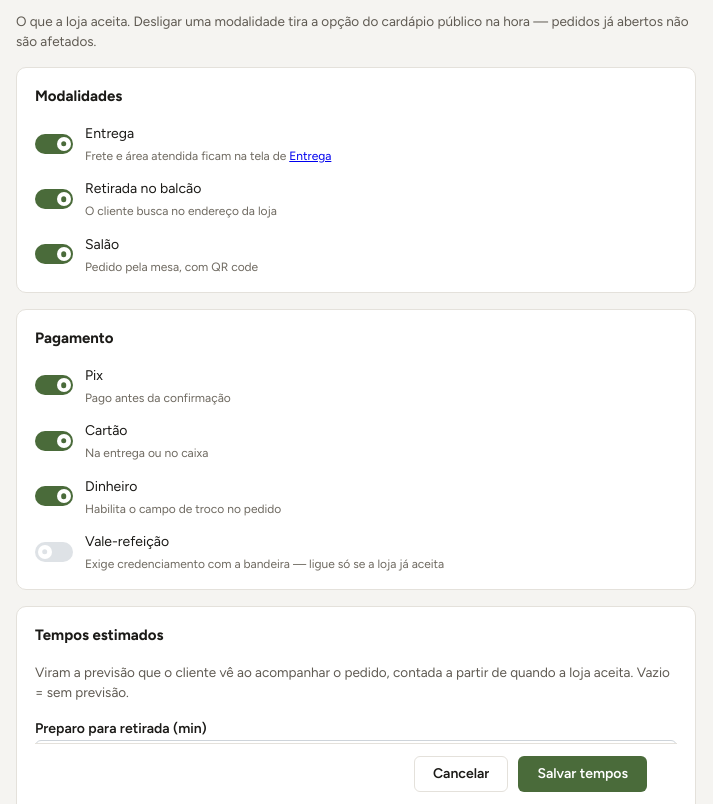
it: ModalitiesPage › o erro fica embaixo do interruptor que falhou, mesmo com dois cliques seguidos
Click the switch labelled "Entrega" at (54, 144), box [35,125,331,163]
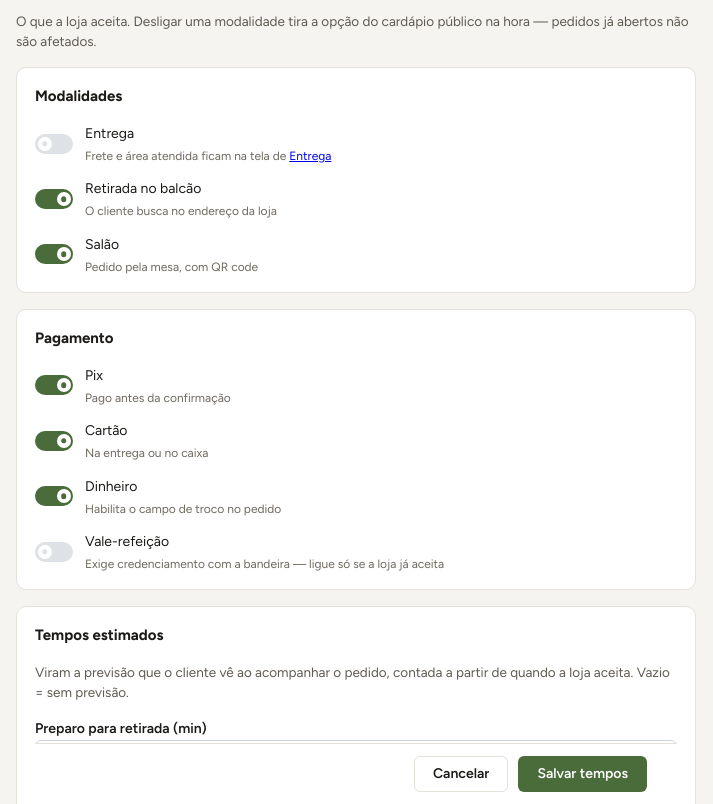
Click the switch labelled "Retirada no balcão" at (156, 199), box [35,180,277,218]
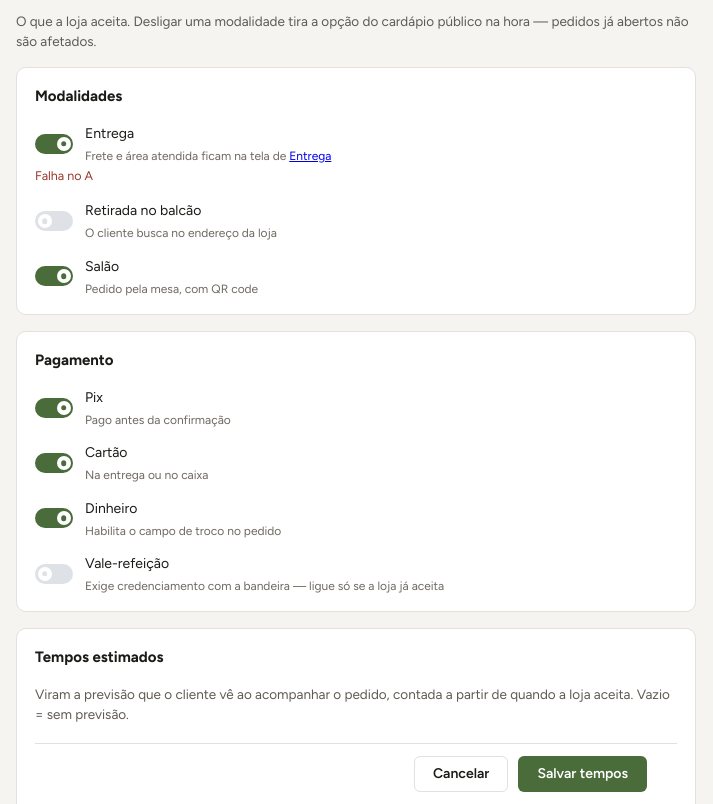
Check: the switch labelled "Retirada no balcão" is not checked, box [35,202,277,240]
Check: the message reads "Falha no A", box [35,168,93,183]
